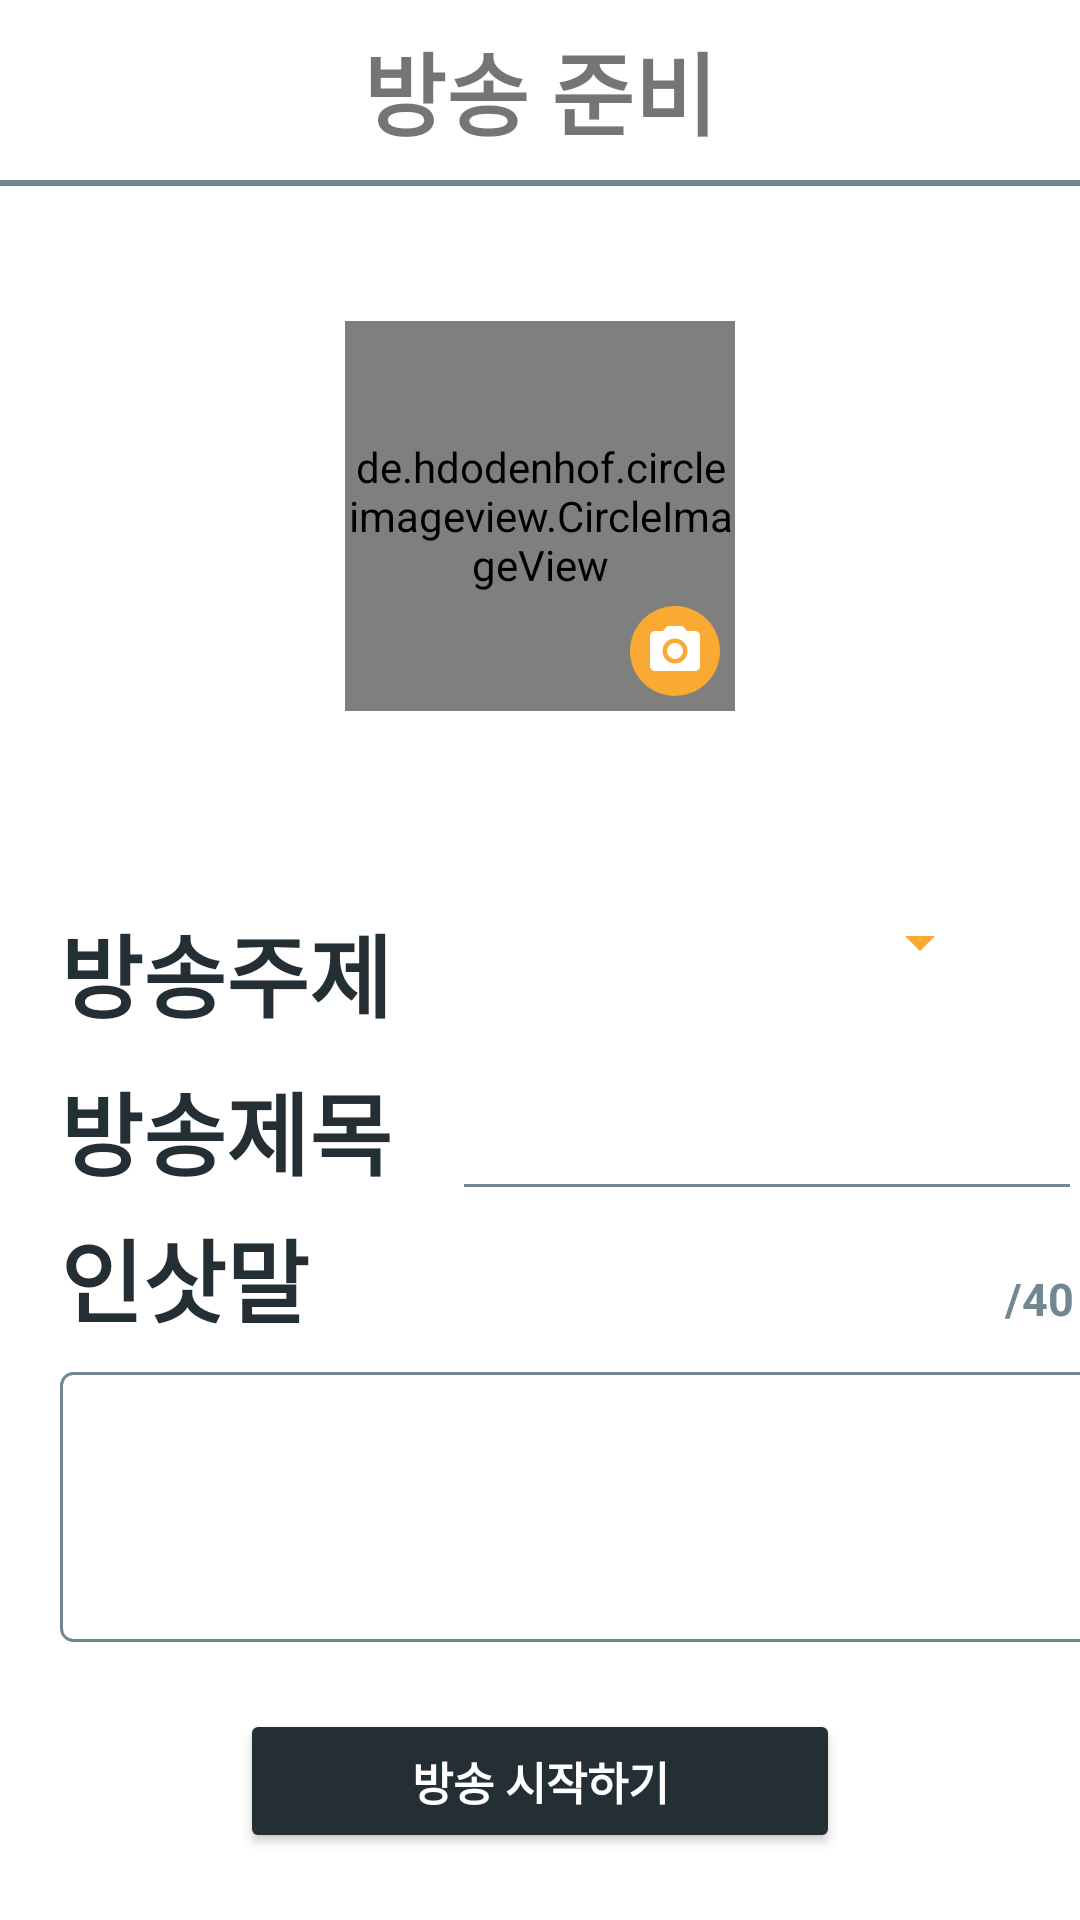

Screen size 1080*1920. Icon name, then its center in pixels as (x,y):
camera: (675,648)
